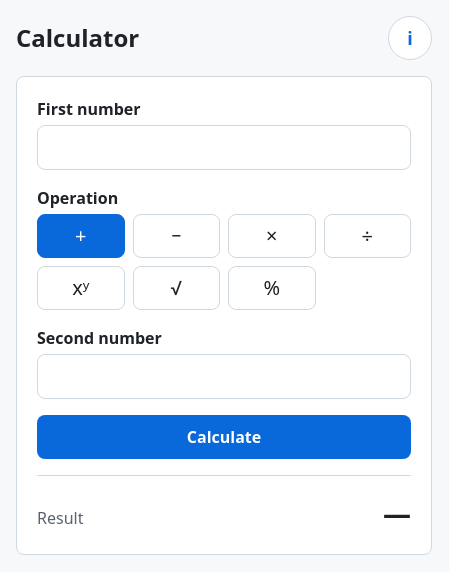
Test: Calculator › sends both numbers for Percent of
Type "10" into the field labelled "First number". click: (224,148)
box: 37,125 -> 411,170
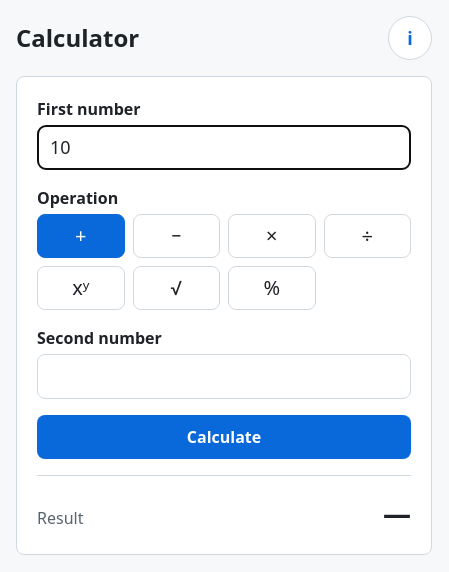
Click the radio button named "Percent of". click: (272,288)
box: 228,266 -> 316,310
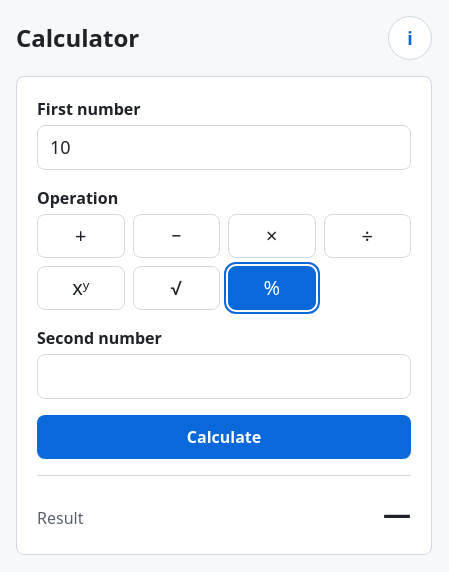
Type "200" into the field labelled "Second number". click: (224,376)
box: 37,354 -> 411,399
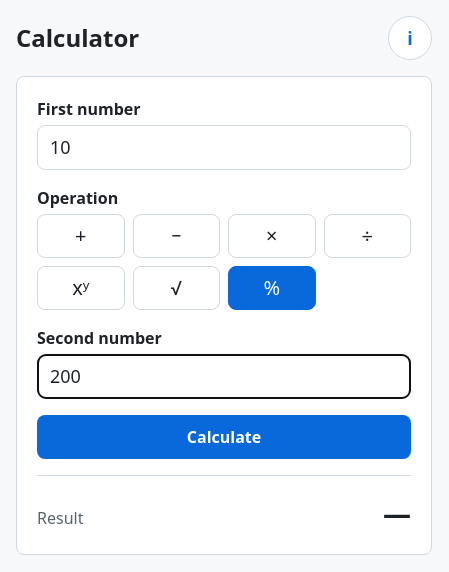
Click the button "Calculate". click: (224,437)
box: 37,415 -> 411,459
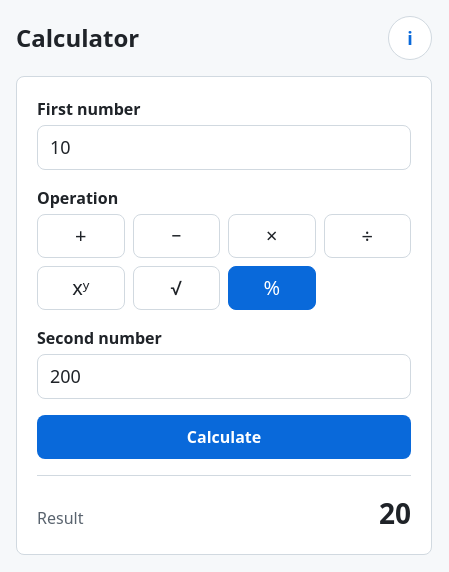
Result: the text "20" is shown at 379,492 -> 411,534
